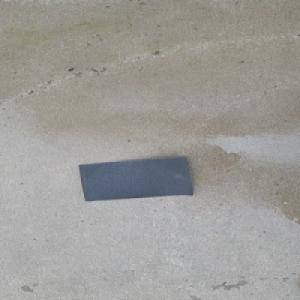PaintChip: (78, 155, 194, 201)
